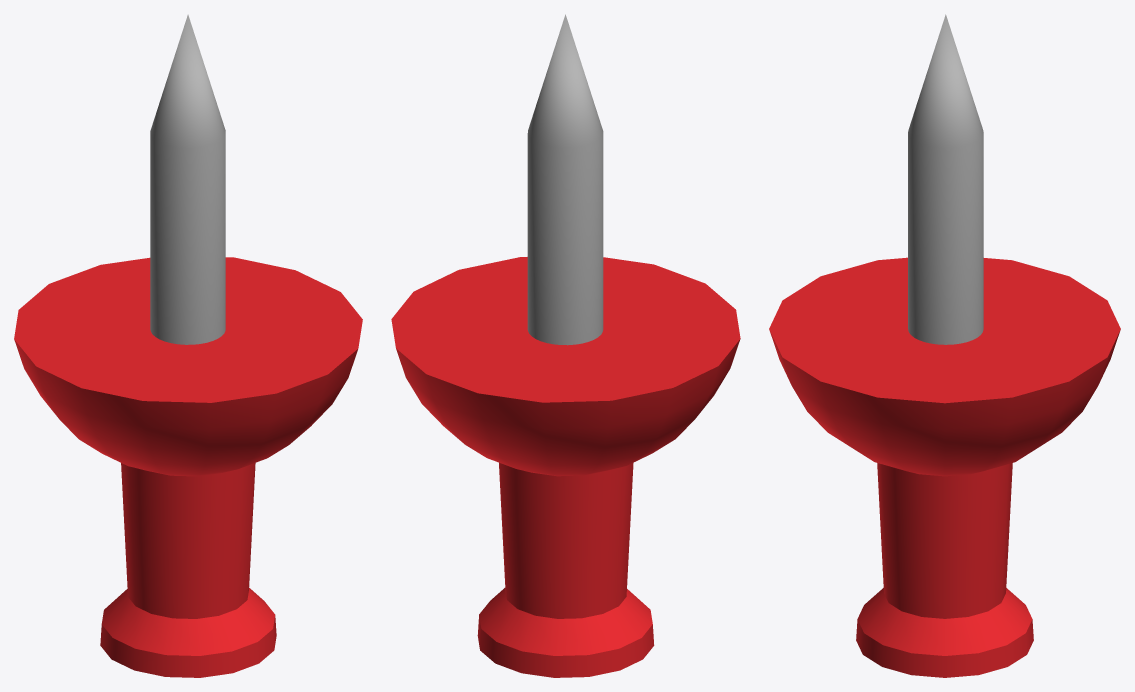
File: thumbtacksmoothfbx.fbx
3 renders of one model, left to right at view 1: azimuth 30°, elevation 25°; view 2: azimuth 150°, elevation 25°; view 3: azimuth 270°, elevation 25°, orthographic.
Parts seen in each view (by area): view 1: thummbtack; view 2: thummbtack; view 3: thummbtack.
Boxes of the visible parts, box(x1,y1,x2,y2) form: thummbtack: box(14, 14, 362, 677); thummbtack: box(391, 14, 740, 677); thummbtack: box(769, 14, 1120, 677).
Size of the model in its own units: 107 by 210 by 107.
